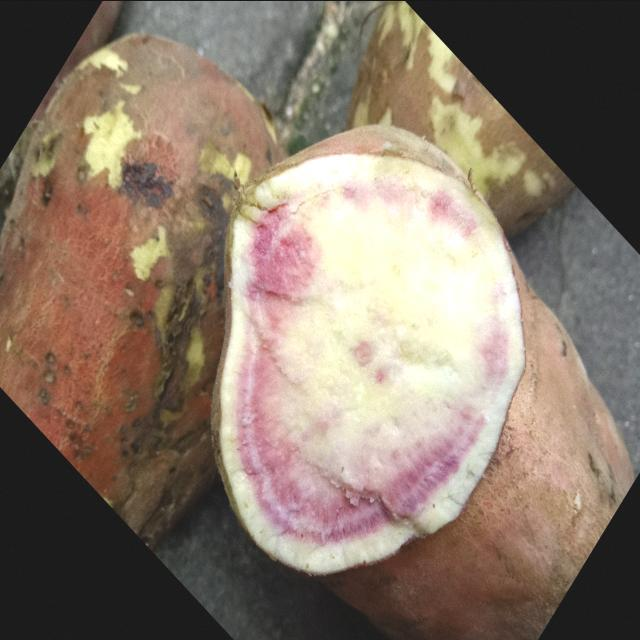Healthy Sweet Potato: (211, 125, 525, 573)
